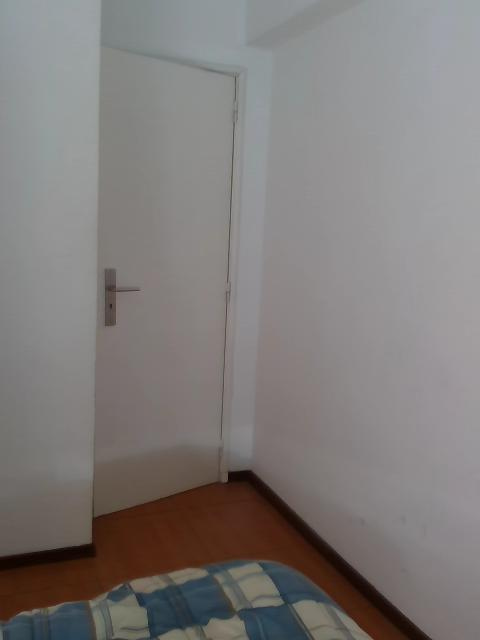door: (85, 44, 237, 517)
